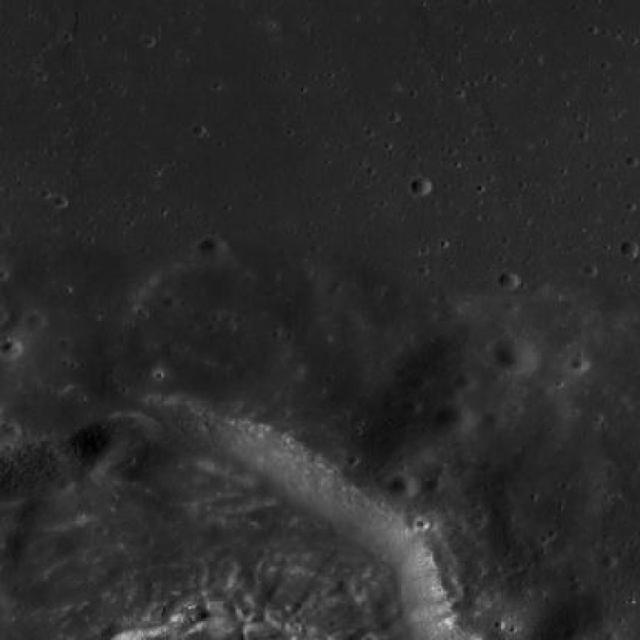crater: (494, 338, 537, 374), (434, 402, 472, 436), (388, 474, 418, 500), (198, 236, 226, 261), (480, 409, 506, 431), (0, 338, 22, 358), (409, 176, 431, 195), (496, 270, 518, 288), (26, 312, 46, 331), (570, 356, 590, 372), (456, 373, 474, 390), (402, 399, 420, 416), (425, 478, 443, 493), (56, 476, 75, 490), (619, 240, 638, 254), (410, 376, 428, 390), (1, 0, 2, 2)
